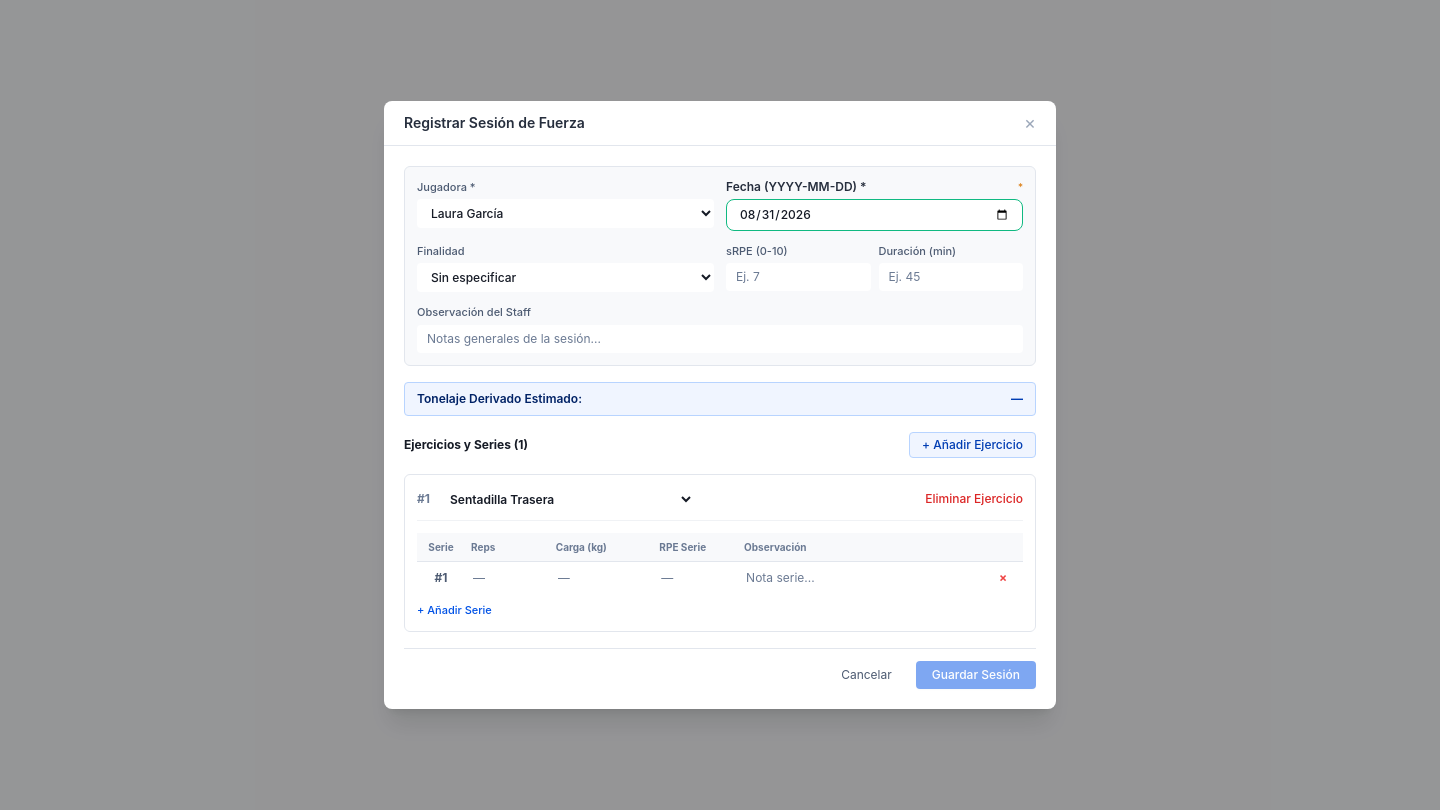
it: StrengthFormModal (Alta y Edición de Fuerza) › 16. Solicita confirmación antes de eliminar una serie informada
The width and height of the screenshot is (1440, 810).
Step 1. Type "8" into the 1st number field with placeholder "—" → point(501, 578), box x1=469 y1=566 x2=533 y2=590
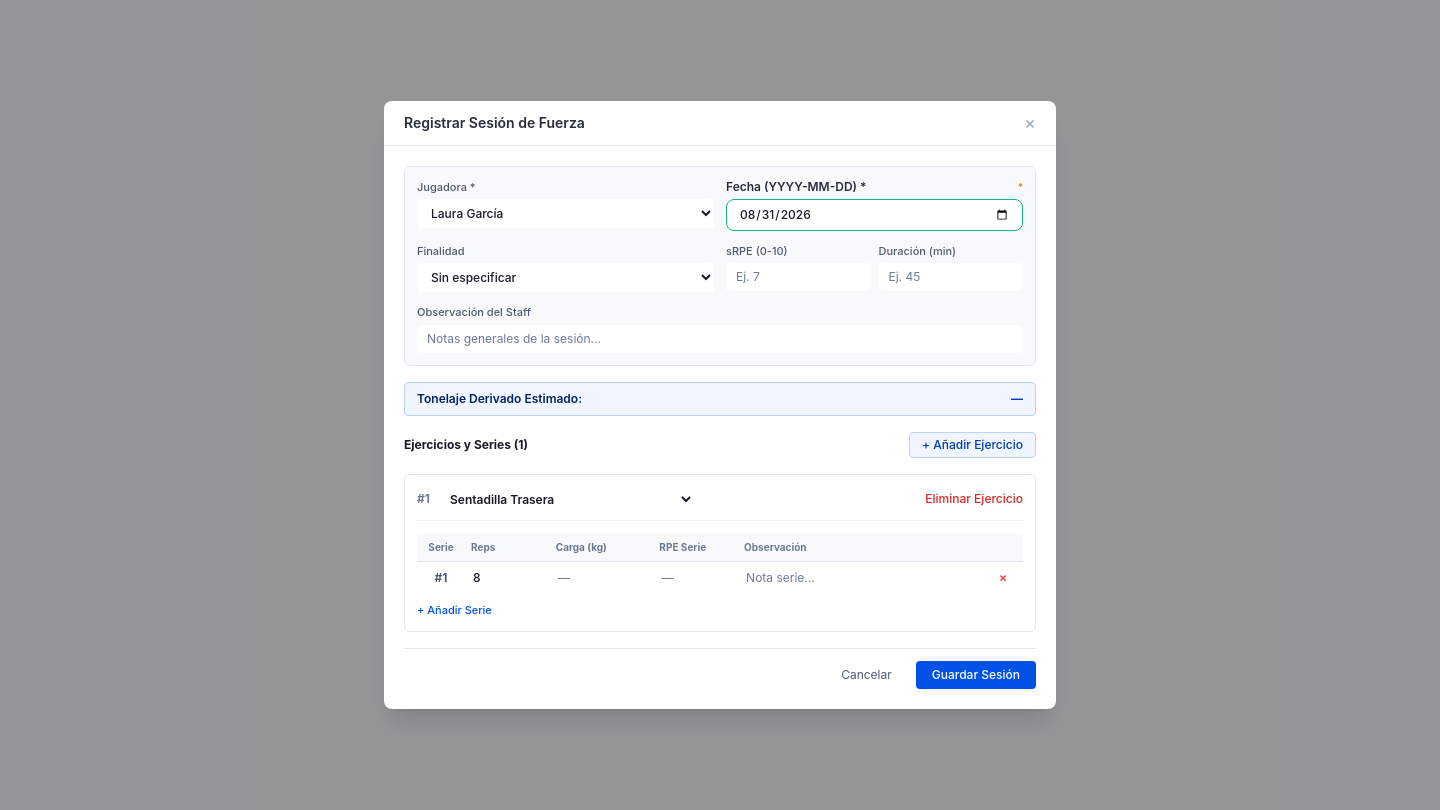
Step 2. Click the 2nd button titled "Eliminar serie" → point(1003, 578), box x1=999 y1=570 x2=1007 y2=586
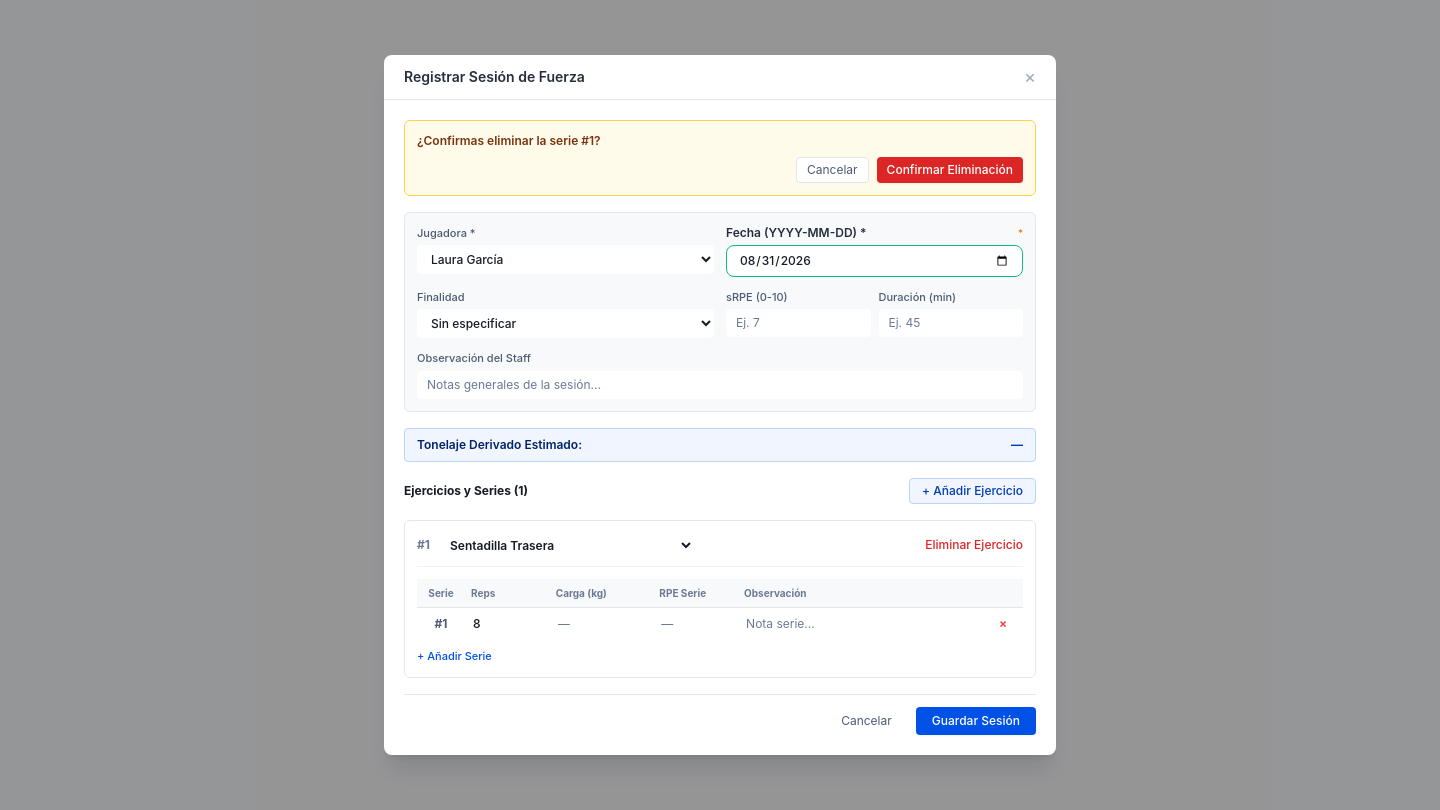
Expected: the text "¿Confirmas eliminar la serie #1?" is shown, x1=417 y1=133 x2=601 y2=148
